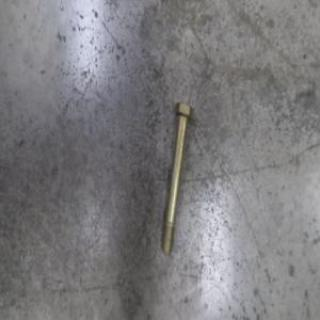Bolttrack_idkeyframe: (160, 99, 193, 256)
